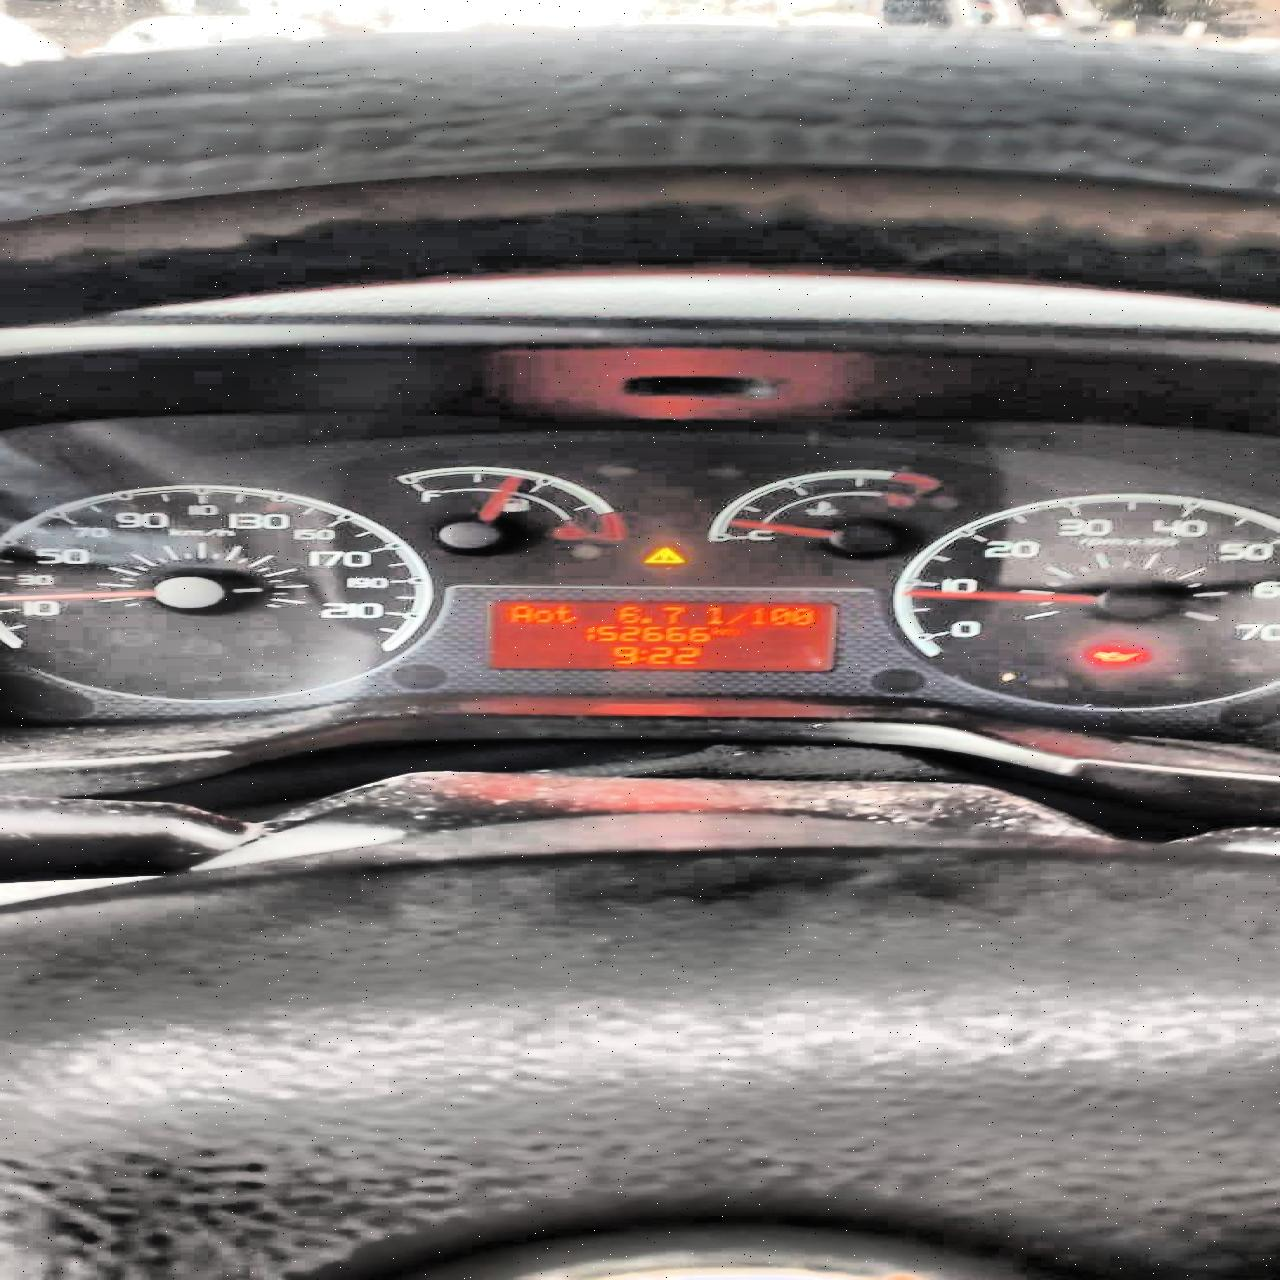-: (638, 617, 652, 624)
0: (789, 607, 813, 625), (767, 606, 789, 625)
1: (748, 606, 767, 625), (584, 626, 594, 640)
2: (672, 646, 701, 663), (647, 646, 673, 663), (618, 626, 640, 640)
5: (594, 625, 618, 641)
6: (640, 626, 665, 640), (687, 626, 709, 641), (665, 626, 687, 641)
7: (661, 606, 686, 625)
8: (614, 605, 640, 624)
9: (611, 646, 639, 663)
X: (508, 605, 535, 622), (553, 605, 578, 622), (723, 610, 748, 625), (704, 606, 723, 625), (531, 608, 553, 622), (720, 628, 741, 635), (636, 649, 648, 661), (709, 626, 720, 635)
odometer: (485, 598, 839, 672)
